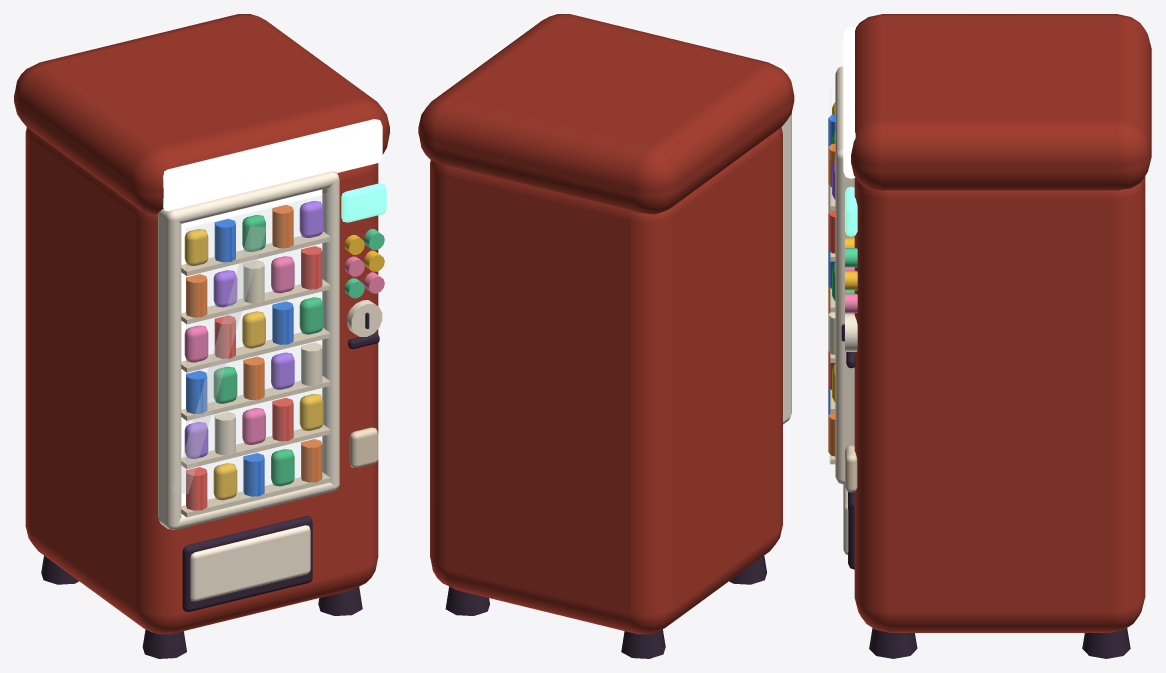
File: machine-snacks.glb
3 views of the same model, side by side, from view 1: azimuth 30°, elevation 25°; view 2: azimuth 150°, elevation 25°; view 3: azimuth 270°, elevation 25° (orthographic). The views are drawn at different scales.
Parts seen in each view (by area): view 1: cabinet, cap, glass, machine-snacks, interior-back, header, frame-left, pickup-flap, frame-right, glass-shine, pickup-recess, frame-top (+34 smaller); view 2: cabinet, cap, frame-left, machine-snacks; view 3: cabinet, cap, frame-right, machine-snacks, header, frame-top, glass, screen, coin-return, pickup-recess, coin-slot.
Part boxes in pixels (left/top/right/bottom): cabinet: left=25, top=127, right=378, bottom=634; cap: left=14, top=14, right=389, bottom=214; glass: left=187, top=193, right=330, bottom=517; machine-snacks: left=41, top=229, right=384, bottom=658; interior-back: left=181, top=189, right=322, bottom=505; header: left=163, top=119, right=382, bottom=211; frame-left: left=158, top=209, right=181, bottom=529; pickup-flap: left=190, top=525, right=310, bottom=601; frame-right: left=322, top=171, right=339, bottom=490; glass-shine: left=172, top=226, right=266, bottom=493; pickup-recess: left=182, top=516, right=312, bottom=611; frame-top: left=159, top=171, right=339, bottom=223; cabinet: left=430, top=127, right=782, bottom=634; cap: left=418, top=14, right=794, bottom=214; frame-left: left=781, top=112, right=791, bottom=423; machine-snacks: left=445, top=556, right=766, bottom=658; cabinet: left=854, top=176, right=1145, bottom=632; cap: left=851, top=14, right=1151, bottom=190; frame-right: left=835, top=148, right=854, bottom=483; machine-snacks: left=830, top=186, right=1130, bottom=658; header: left=843, top=27, right=855, bottom=178; frame-top: left=835, top=67, right=843, bottom=159; glass: left=829, top=87, right=830, bottom=463; screen: left=845, top=186, right=857, bottom=236; coin-return: left=845, top=445, right=857, bottom=492; pickup-recess: left=848, top=492, right=854, bottom=569; coin-slot: left=845, top=313, right=857, bottom=351.
Bounding box in the file's own units: 0.96 × 1.83 × 1.
